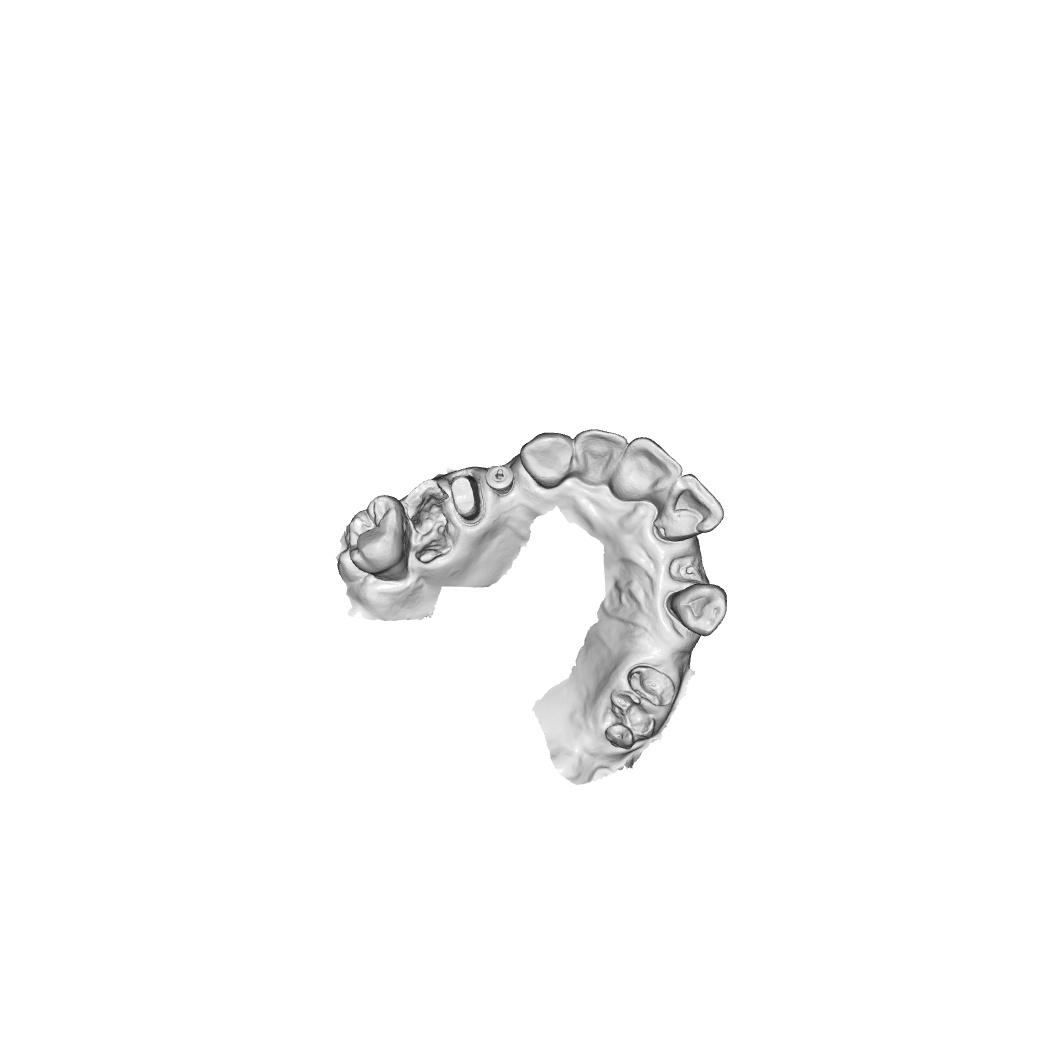canine: (666, 582, 729, 637), (519, 430, 575, 491)
crown: (449, 471, 485, 528)
implant_minus: (483, 463, 517, 496)
incisor: (652, 473, 726, 543), (608, 436, 683, 502), (573, 427, 629, 486)
molar: (343, 493, 413, 583)
